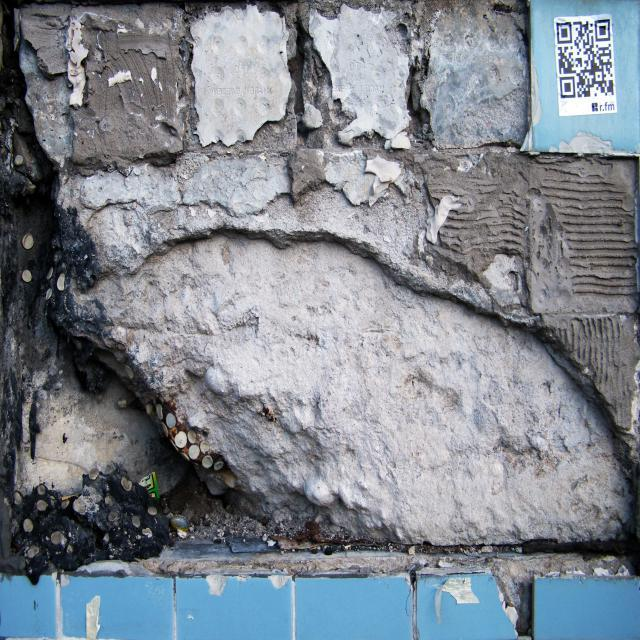qrcode: (558, 20, 615, 99)
